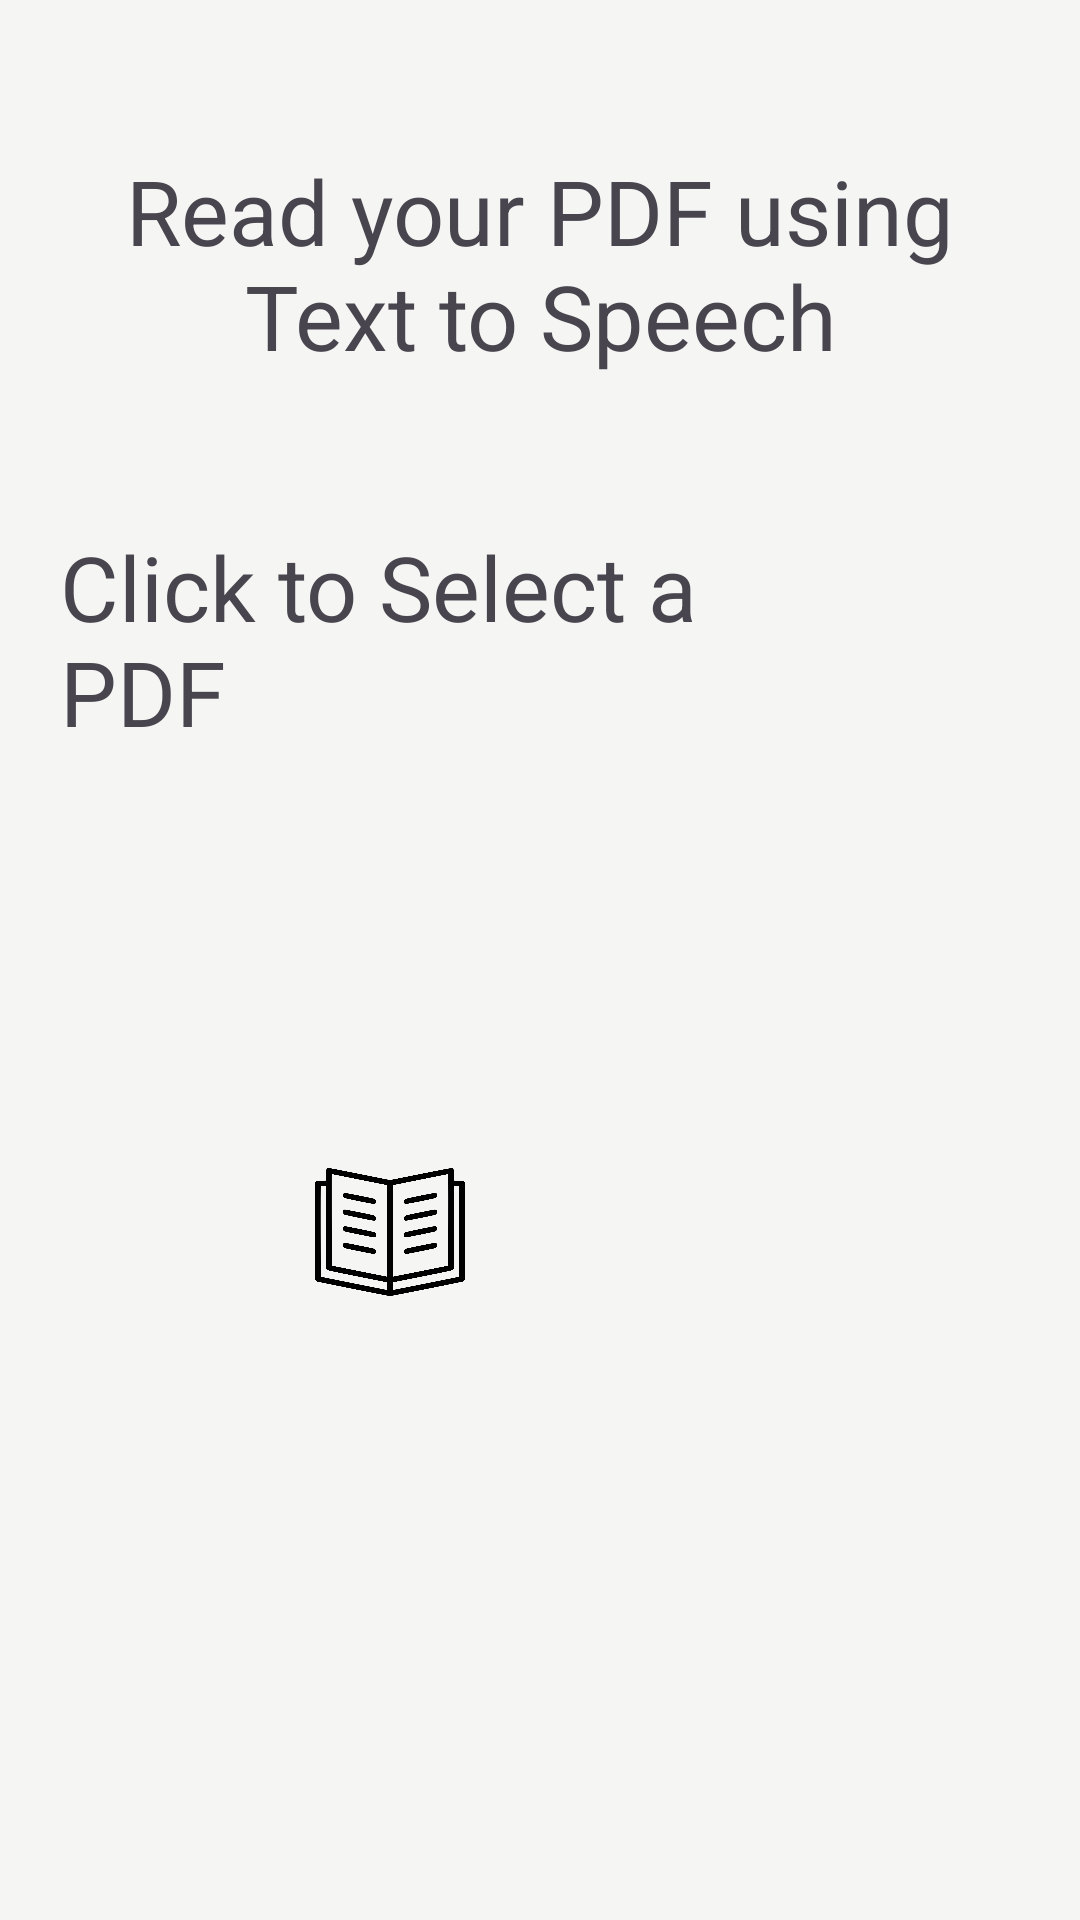

Icons on this 1080×1920 Android screen, each with the point to tap as (x,y):
read: (390,1232)
